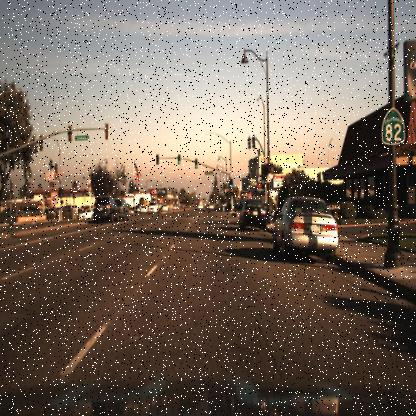car: (272, 197, 342, 275), (239, 193, 271, 235), (236, 196, 268, 236), (91, 193, 122, 229), (90, 190, 120, 227), (116, 196, 132, 222), (73, 206, 94, 222), (146, 198, 160, 217), (78, 206, 92, 222)
trafficLight-Green: (192, 156, 200, 172), (177, 154, 182, 167), (228, 178, 233, 190)
